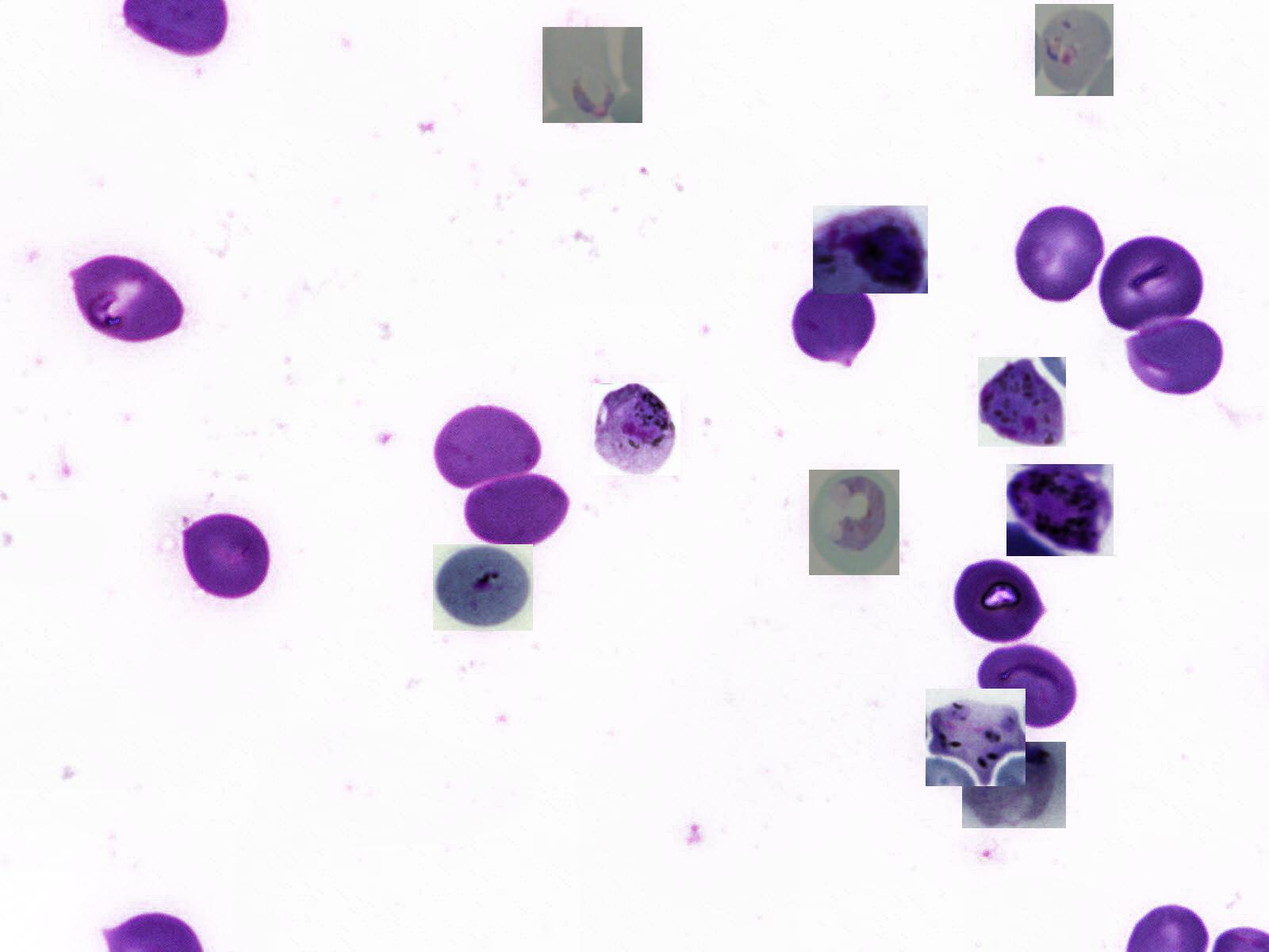Infected: (813, 205, 928, 294), (1006, 464, 1114, 556), (926, 689, 1026, 786), (542, 27, 642, 123), (809, 470, 899, 575), (962, 742, 1066, 828), (433, 544, 533, 631), (592, 383, 681, 475), (978, 357, 1066, 447), (1035, 4, 1114, 96)
Uninfected: (71, 249, 190, 351), (1098, 232, 1208, 334), (1012, 199, 1110, 311), (431, 399, 544, 493), (176, 510, 274, 608), (976, 643, 1081, 732), (460, 470, 573, 548), (1121, 313, 1225, 397), (949, 558, 1049, 643), (790, 280, 880, 368)
